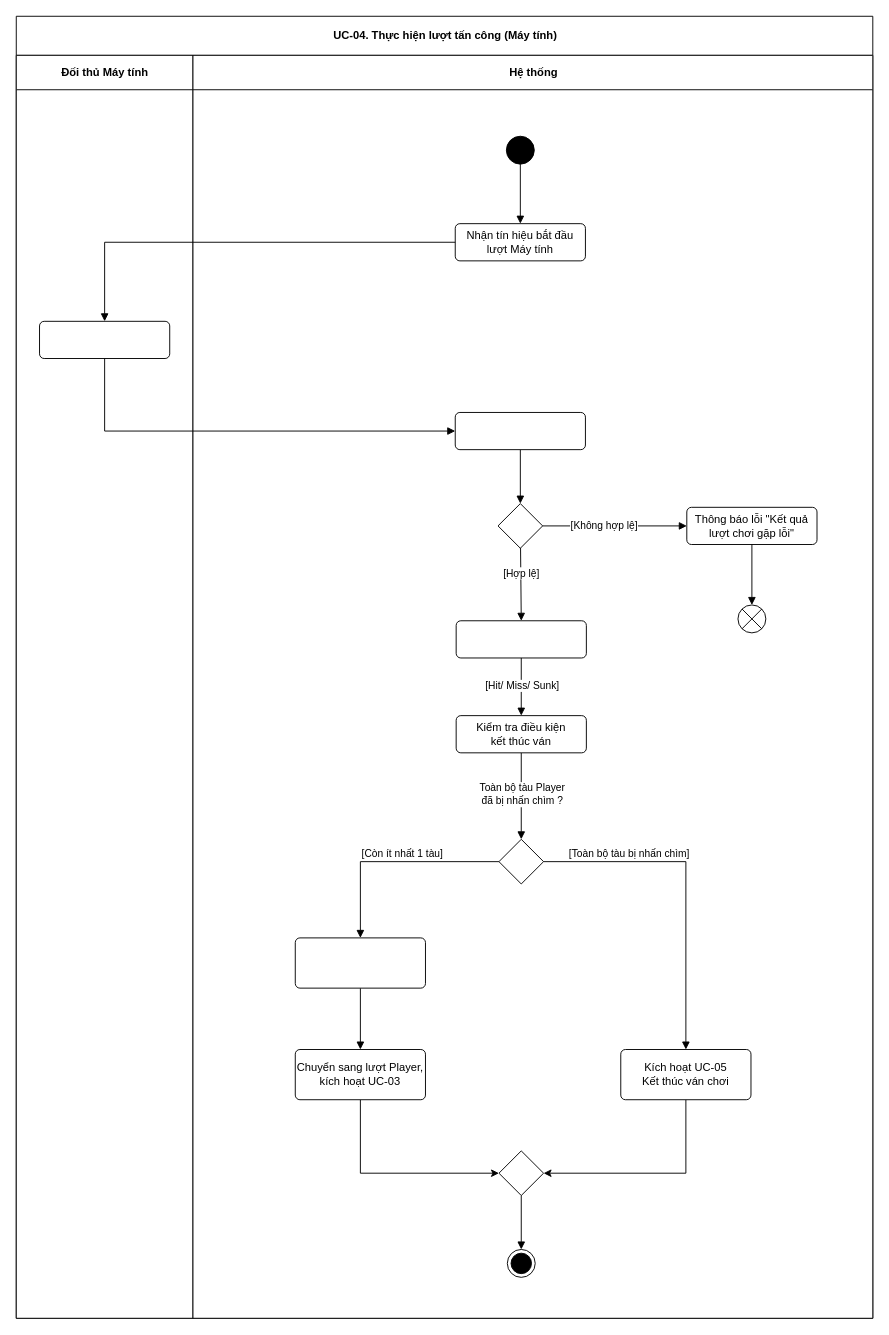
Image size: 889x1335. Some labels were removed from this diagram. The shapes that lost their labels are listed below. From the top down, each one's centre as x and y in pixels, then its label:
At point (104, 339): "Chọn một ô chưa bị tấn công trên bảng Player".
At point (519, 431): "Kiểm tra tính hợp lệ của ô được chọn".
At point (520, 639): "Xác định kết quả tấn công".
At point (359, 962): "Đánh dấu ô vừa bị tấn công bằng ký hiệu tương ứng (Hit/ Miss/ Sunk)".
